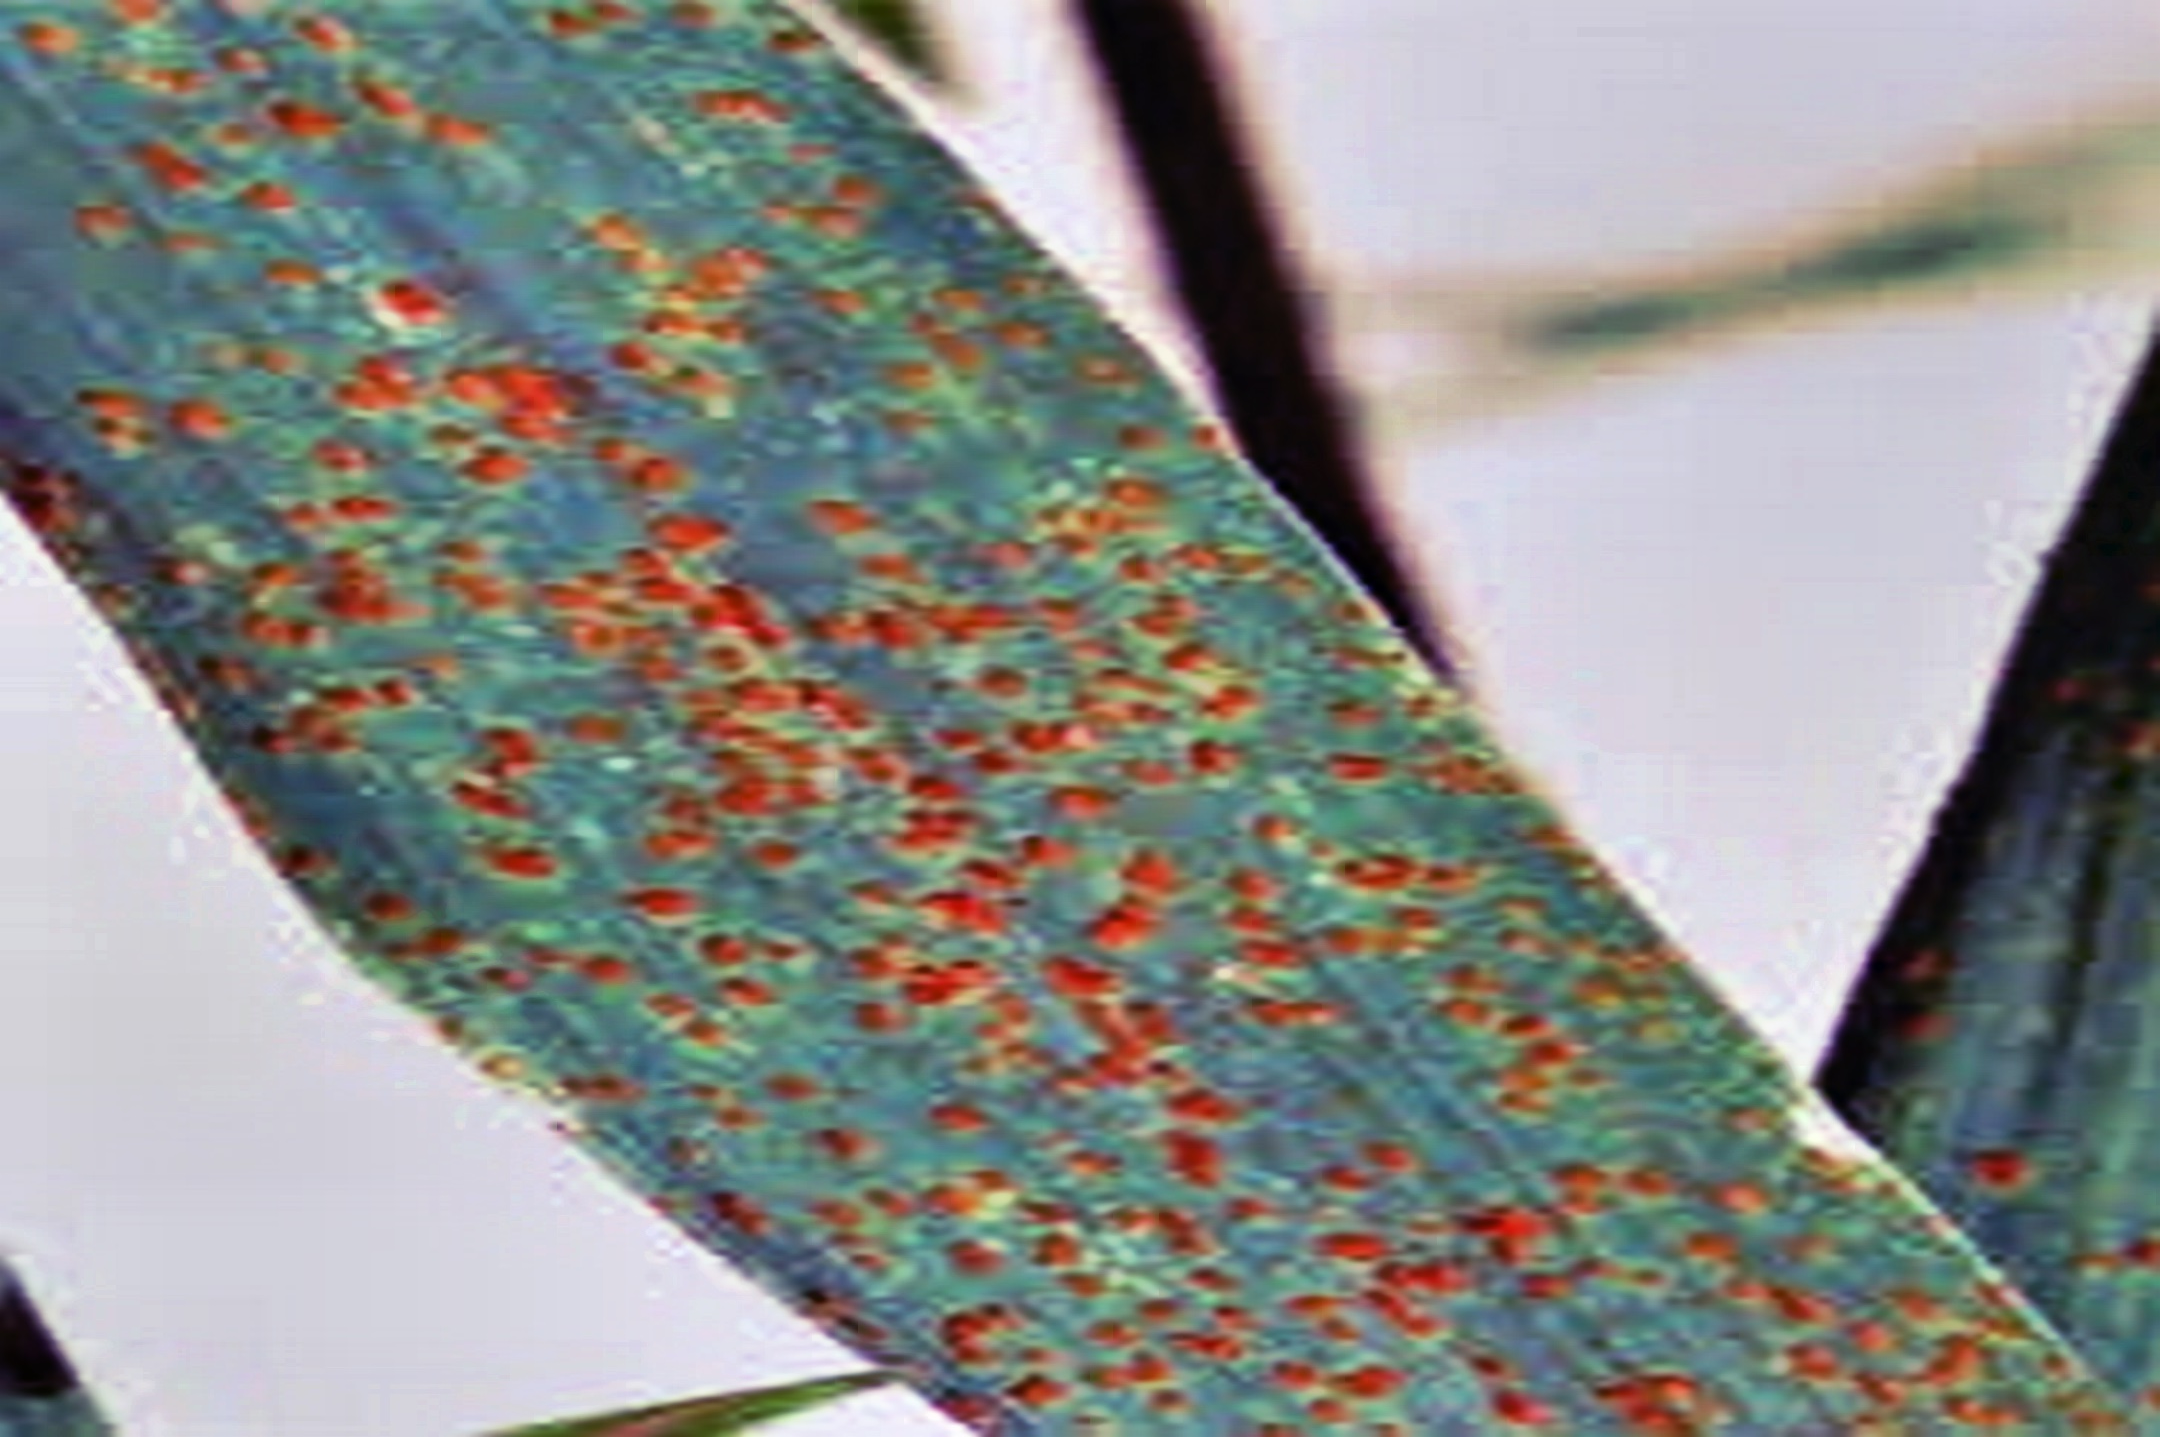Leaf Rust: (215, 257, 1737, 1437)
